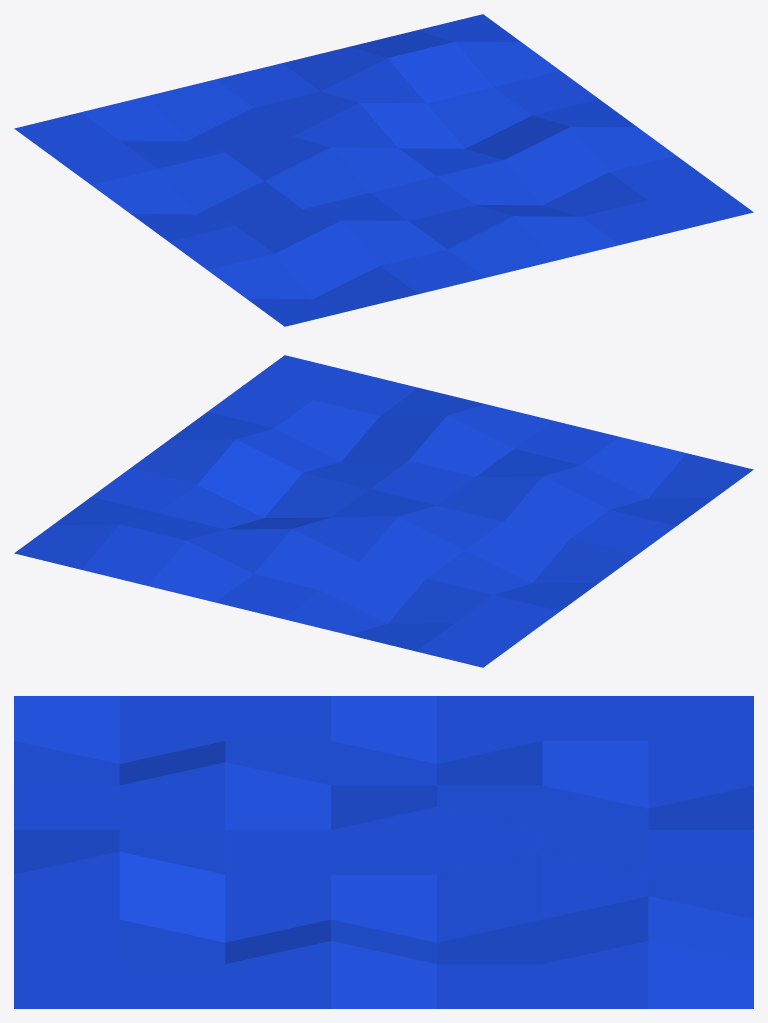
The model's file is water_poly.glb.
The picture shows the model from 3 angles, top to bottom: view 1: azimuth 30°, elevation 25°; view 2: azimuth 150°, elevation 25°; view 3: azimuth 270°, elevation 25°; orthographic projection. The views are drawn at different scales.
Visible parts, largest first — view 1: water_poly; view 2: water_poly; view 3: water_poly.
Part boxes in pixels (x1,y1,x2,y2): water_poly: [14, 14, 753, 326]; water_poly: [14, 355, 753, 667]; water_poly: [14, 696, 753, 1008].
Bounding box in the file's own units: 2 × 0.1387 × 2.
